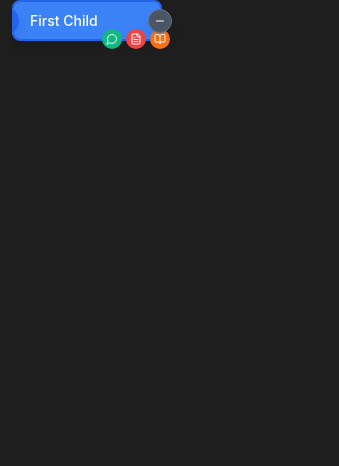
Test: MindMapNode › context menu › should close context menu on Escape key
Right-click the element showing "First Child" at (87, 20), box [12,0,162,41]
Wait 600 ms
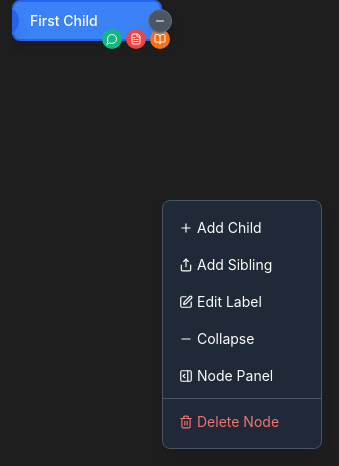
Result: the button "Add Child" is shown at [163,209,321,246]
Press Escape
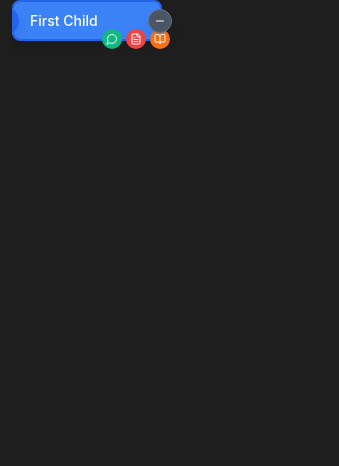
Result: the button "Add Child" is gone
